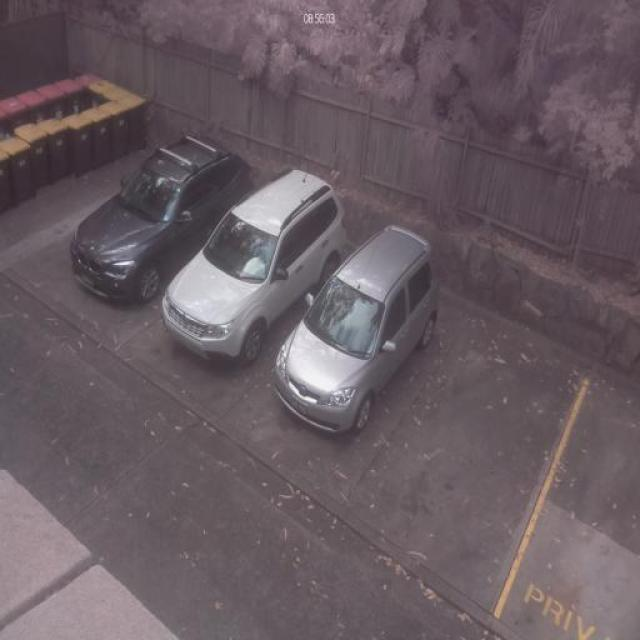Legalparking: (3, 66, 470, 458)
